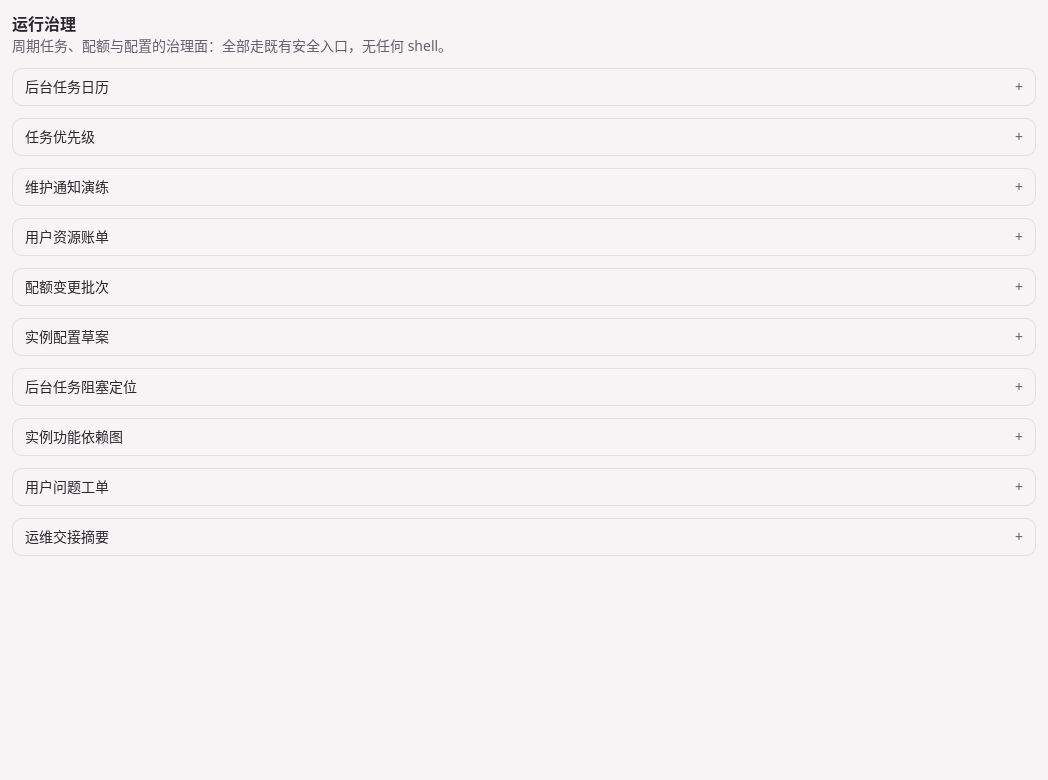
Scenario: NEW-371..380 运行治理中心（Web 入口） › 功能依赖图：未探测如实 unknown，探测后展示实际探测时间
The width and height of the screenshot is (1048, 780).
Click the button "实例功能依赖图 +" at (74, 436), box x1=13 y1=419 x2=1035 y2=455
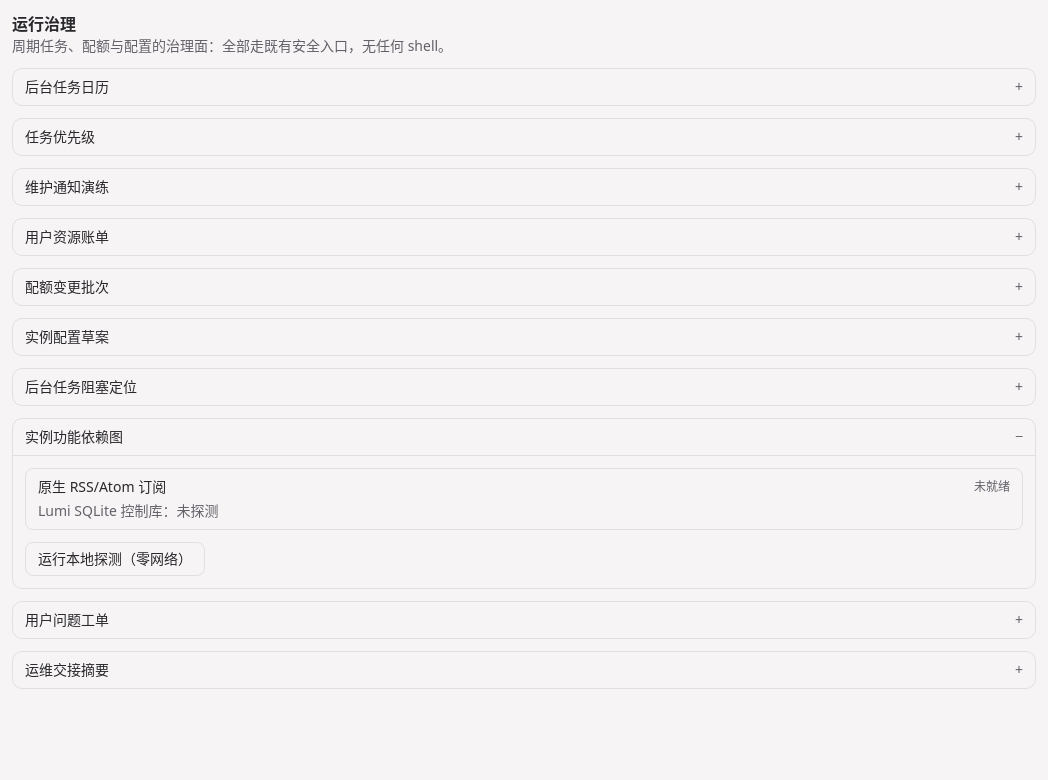
Result: the text "原生 RSS/Atom 订阅" is shown at x1=38 y1=477 x2=166 y2=497
Result: the list item "Lumi SQLite 控制库：未探测" is shown at x1=38 y1=501 x2=218 y2=520
Click the button "运行本地探测（零网络）" at (115, 559), box x1=25 y1=542 x2=205 y2=576
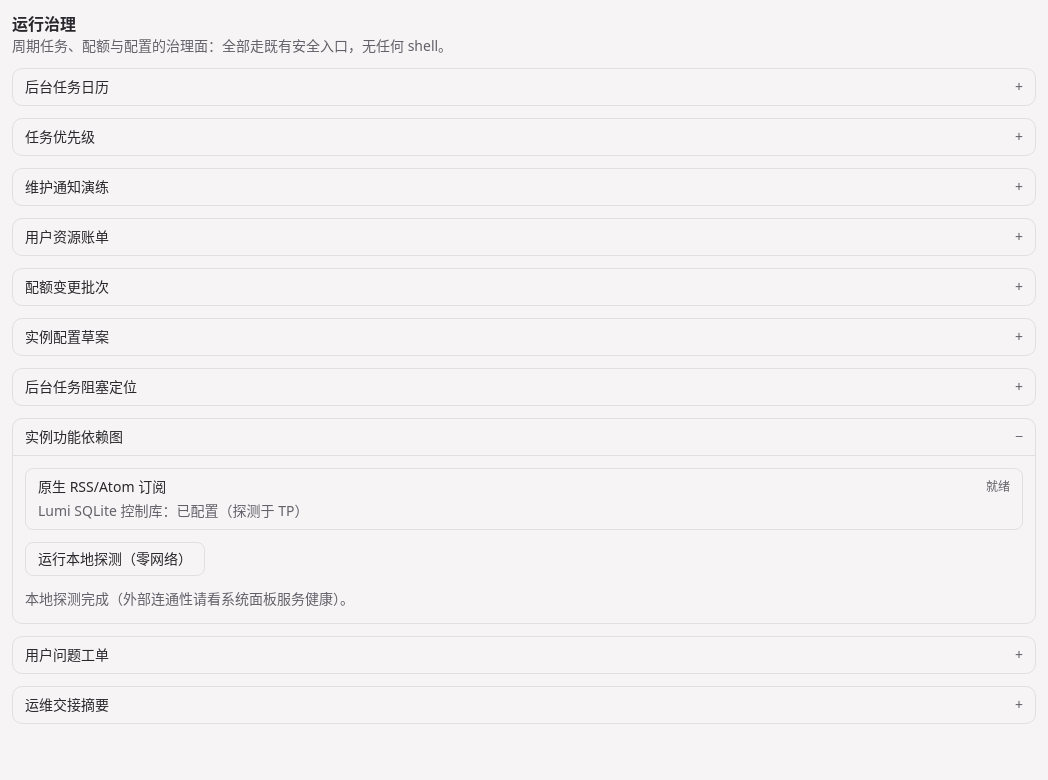
Result: the list item "Lumi SQLite 控制库：已配置（探测于 TP）" is shown at x1=38 y1=501 x2=308 y2=520
